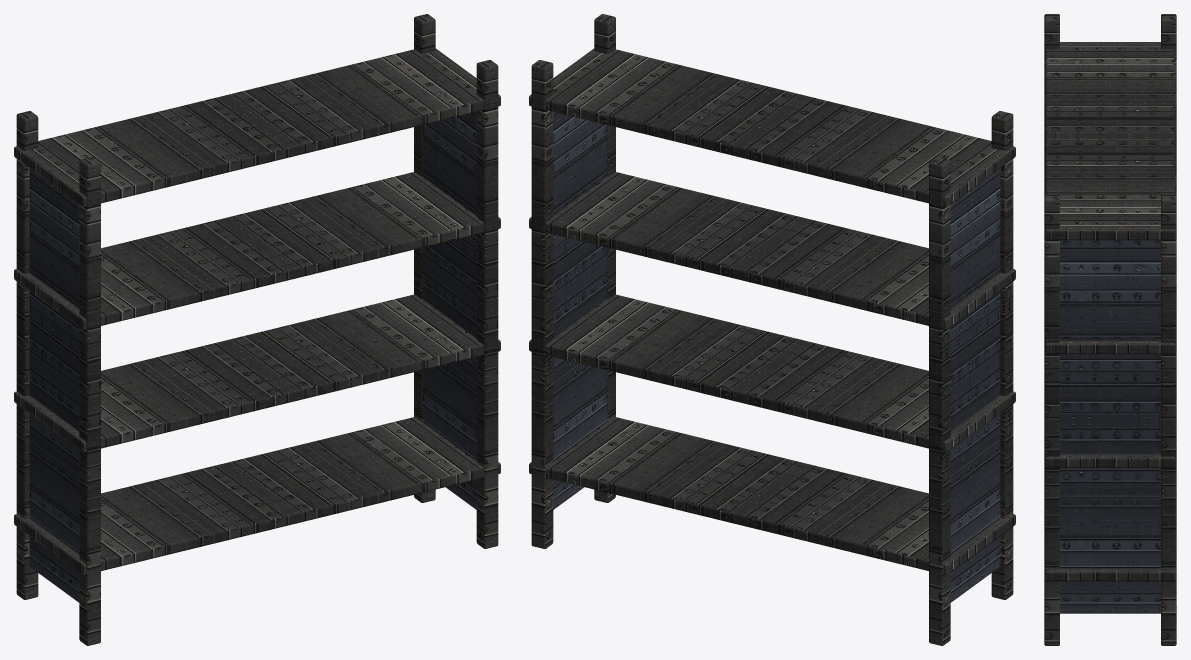
The model's file is prop_shelf.glb.
The picture shows the model from 3 angles, left to right: view 1: azimuth 30°, elevation 25°; view 2: azimuth 150°, elevation 25°; view 3: azimuth 270°, elevation 25°; orthographic projection. The views are drawn at different scales.
Parts seen in each view (by area): view 1: shelf_3, shelf_2, shelf_0, shelf_1, brace_-1, brace_1, post_1_-1, post_-1_-1, post_-1_1, post_1_1; view 2: shelf_3, shelf_2, shelf_0, shelf_1, brace_-1, brace_1, post_1_1, post_-1_1, post_-1_-1, post_1_-1; view 3: brace_1, shelf_3, post_1_1, post_1_-1, shelf_0, shelf_1, shelf_2, post_-1_1, post_-1_-1.
Boxes of the visible parts, left/top/right/bottom form: shelf_3: left=14, top=48, right=500, bottom=207; shelf_2: left=14, top=172, right=500, bottom=329; shelf_0: left=14, top=417, right=500, bottom=575; shelf_1: left=14, top=294, right=500, bottom=452; brace_-1: left=29, top=168, right=79, bottom=602; brace_1: left=422, top=112, right=476, bottom=509; post_1_-1: left=476, top=60, right=498, bottom=548; post_-1_-1: left=79, top=157, right=100, bottom=645; post_-1_1: left=16, top=111, right=38, bottom=599; post_1_1: left=414, top=14, right=435, bottom=502; shelf_3: left=529, top=48, right=1015, bottom=207; shelf_2: left=529, top=172, right=1015, bottom=329; shelf_0: left=529, top=417, right=1015, bottom=575; shelf_1: left=529, top=294, right=1015, bottom=452; brace_-1: left=950, top=168, right=1000, bottom=602; brace_1: left=553, top=112, right=607, bottom=509; post_1_1: left=531, top=60, right=553, bottom=548; post_-1_1: left=929, top=157, right=950, bottom=645; post_-1_-1: left=991, top=111, right=1013, bottom=599; post_1_-1: left=594, top=14, right=615, bottom=502; brace_1: left=1060, top=240, right=1160, bottom=613; shelf_3: left=1045, top=42, right=1175, bottom=240; post_1_1: left=1161, top=194, right=1176, bottom=645; post_1_-1: left=1044, top=194, right=1059, bottom=645; shelf_0: left=1045, top=568, right=1175, bottom=581; shelf_1: left=1045, top=454, right=1175, bottom=467; shelf_2: left=1045, top=340, right=1175, bottom=353; post_-1_1: left=1161, top=14, right=1176, bottom=194; post_-1_-1: left=1044, top=14, right=1059, bottom=194.
Bounding box in the file's own units: 2 × 2.2 × 0.59.
2 materials, 2 textured.
